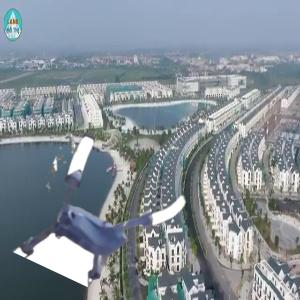drone: (36, 144, 182, 290)
